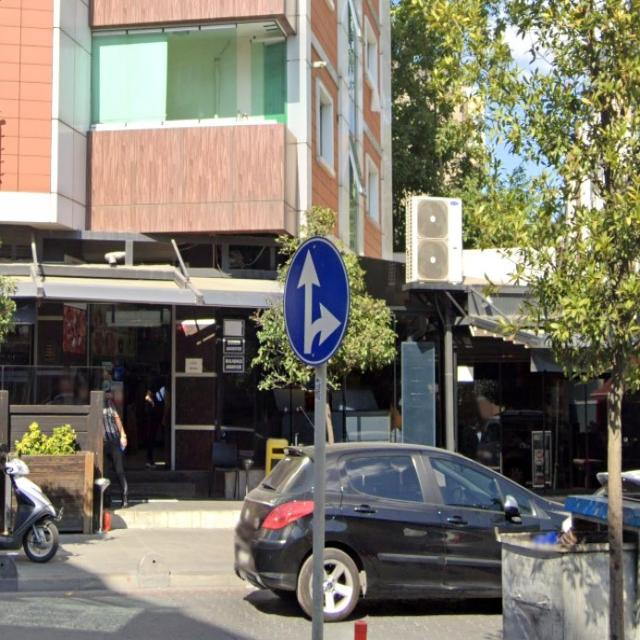ilerisag: (283, 236, 348, 364)
